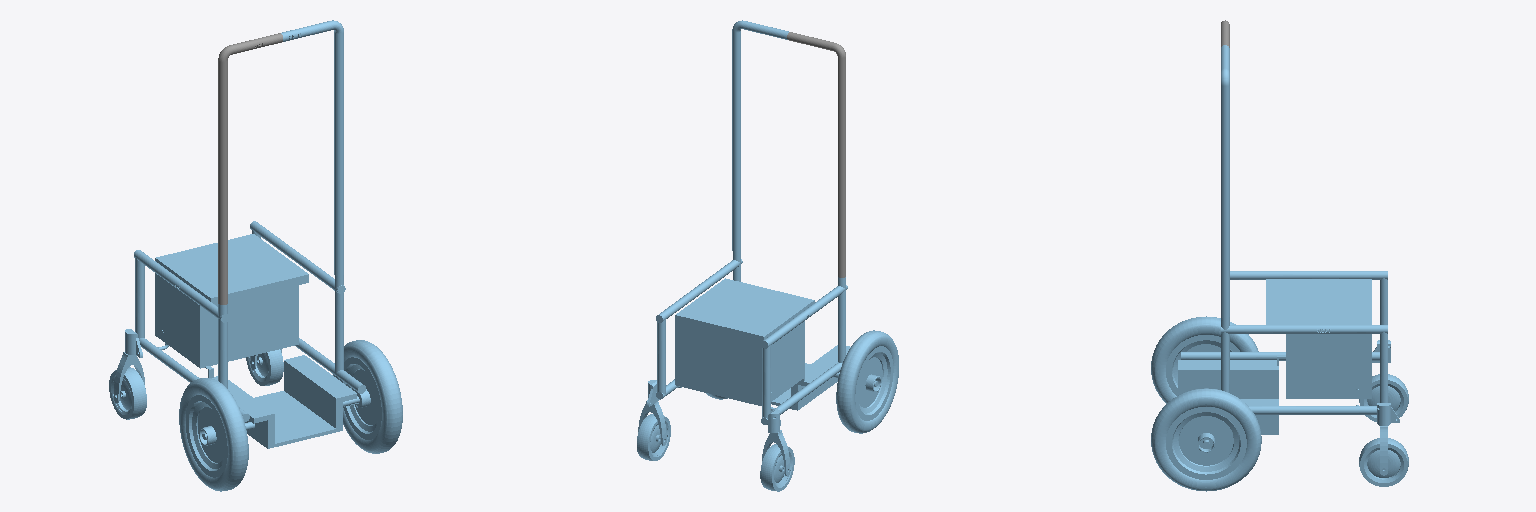
URDF robot description (robot):
<robot name="robot">
<!-- This URDF file was automatically generated by onshape-to-robot! Created by
Grégoire Passault (https://github.com/Gregwar) -->
    <link name="world"/>

    <joint name="world_parte-interior_joint" type="fixed">
        <parent link="world"/>
        <child link="parte_interior"/>
        <origin xyz="0.0 0.0 0.0" rpy="0.0 0.0 0.0"/>
    </joint>

    <link name="parte_interior">
        <visual>
            <origin xyz="-0.17157259699105301132 0.24287593199312426662 0.28583529680976227372" rpy="3.141592653589793116 -2.4651903288156597024e-31 3.141592653589793116" />
            <geometry>
                <mesh filename="package://theta_description/meshes/estrutura_esquerda.stl"/>
            </geometry>
            <material name="estrutura_esquerda_material">
                <color rgba="0.61568627450980395466 0.81176470588235294379 0.92941176470588238168 1.0"/>
            </material>
        </visual>
        <collision>
            <origin xyz="-0.17157259699105301132 0.24287593199312426662 0.28583529680976227372" rpy="3.141592653589793116 -2.4651903288156597024e-31 3.141592653589793116" />
            <geometry>
                <mesh filename="package://theta_description/meshes/estrutura_esquerda.stl"/>
            </geometry>
        </collision>
        <visual>
            <origin xyz="-0.15164718061608356559 -0.063263104190967395235 -0.067790648939520817273" rpy="0 -0 -2.3592239273284576484e-16" />
            <geometry>
                <mesh filename="package://theta_description/meshes/suporte_bateria.stl"/>
            </geometry>
            <material name="suporte_bateria_material">
                <color rgba="0.61568627450980395466 0.81176470588235294379 0.92941176470588238168 1.0"/>
            </material>
        </visual>
        <collision>
        <origin xyz="-0.15164718061608356559 -0.063263104190967395235 -0.067790648939520817273" rpy="0 -0 -2.3592239273284576484e-16" />
        <geometry>
        <mesh filename="package://theta_description/meshes/suporte_bateria.stl"/>
        </geometry>
        </collision>
        <visual>
        <origin xyz="-0.18777259699105303126 0.21037593199312421 0.00683529680976174836" rpy="2.4651903288156575129e-31 -1.35393051783555648e-16 1.570796326794896336" />
        <geometry>
        <mesh filename="package://theta_description/meshes/encaixeeixo.stl"/>
        </geometry>
        <material name="encaixeeixo_material">
        <color rgba="0.61568627450980395466 0.81176470588235294379 0.92941176470588238168 1.0"/>
        </material>
        </visual>
        <collision>
        <origin xyz="-0.18777259699105303126 0.21037593199312421 0.00683529680976174836" rpy="2.4651903288156575129e-31 -1.35393051783555648e-16 1.570796326794896336" />
        <geometry>
        <mesh filename="package://theta_description/meshes/encaixeeixo.stl"/>
        </geometry>
        </collision>
        <visual>
        <origin xyz="-0.17157259699105312234 -0.21462406800687613972 0.32583529680976230924" rpy="0 1.2246467991473549328e-16 6.8001160258290847962e-16" />
        <geometry>
        <mesh filename="package://theta_description/meshes/alça_esquerda.stl"/>
        </geometry>
        <material name="alça_esquerda_material">
        <color rgba="0.64705882352941179736 0.64705882352941179736 0.64705882352941179736 1.0"/>
        </material>
        </visual>
        <collision>
        <origin xyz="-0.17157259699105312234 -0.21462406800687613972 0.32583529680976230924" rpy="0 1.2246467991473549328e-16 6.8001160258290847962e-16" />
        <geometry>
        <mesh filename="package://theta_description/meshes/alça_esquerda.stl"/>
        </geometry>
        </collision>
        <visual>
        <origin xyz="0.21956962733279611344 0.24237593199312440495 -0.024687850027610480641" rpy="0 -0 0" />
        <geometry>
        <mesh filename="package://theta_description/meshes/eixorodamenor.stl"/>
        </geometry>
        <material name="eixorodamenor_material">
        <color rgba="0.61568627450980395466 0.81176470588235294379 0.92941176470588238168 1.0"/>
        </material>
        </visual>
        <collision>
        <origin xyz="0.21956962733279611344 0.24237593199312440495 -0.024687850027610480641" rpy="0 -0 0" />
        <geometry>
        <mesh filename="package://theta_description/meshes/eixorodamenor.stl"/>
        </geometry>
        </collision>
        <visual>
        <origin xyz="0.16085281938391673973 0.1965368958090327467 0.057486351060479119746" rpy="-1.2246467991473556724e-16 1.35393051783555648e-16 -1.57079632679489678" />
        <geometry>
        <mesh filename="package://theta_description/meshes/caixacentral.stl"/>
        </geometry>
        <material name="caixacentral_material">
        <color rgba="0.61568627450980395466 0.81176470588235294379 0.92941176470588238168 1.0"/>
        </material>
        </visual>
        <collision>
        <origin xyz="0.16085281938391673973 0.1965368958090327467 0.057486351060479119746" rpy="-1.2246467991473556724e-16 1.35393051783555648e-16 -1.57079632679489678" />
        <geometry>
        <mesh filename="package://theta_description/meshes/caixacentral.stl"/>
        </geometry>
        </collision>
        <visual>
        <origin xyz="0.18786962733279607973 0.24287593199312432213 0.28638089662856930362" rpy="3.141592653589793116 -0 -3.1415926535897926719" />
        <geometry>
        <mesh filename="package://theta_description/meshes/estrutura_direita.stl"/>
        </geometry>
        <material name="estrutura_direita_material">
        <color rgba="0.61568627450980395466 0.81176470588235294379 0.92941176470588238168 1.0"/>
        </material>
        </visual>
        <collision>
        <origin xyz="0.18786962733279607973 0.24287593199312432213 0.28638089662856930362" rpy="3.141592653589793116 -0 -3.1415926535897926719" />
        <geometry>
        <mesh filename="package://theta_description/meshes/estrutura_direita.stl"/>
        </geometry>
        </collision>
        <visual>
        <origin xyz="0.18786962733279638504 -0.21462406800687591768 0.32638089662856933915" rpy="0 6.1629758220391519929e-33 6.8001160258290847962e-16" />
        <geometry>
        <mesh filename="package://theta_description/meshes/alça_direita.stl"/>
        </geometry>
        <material name="alça_direita_material">
        <color rgba="0.61568627450980395466 0.81176470588235294379 0.92941176470588238168 1.0"/>
        </material>
        </visual>
        <collision>
        <origin xyz="0.18786962733279638504 -0.21462406800687591768 0.32638089662856933915" rpy="0 6.1629758220391519929e-33 6.8001160258290847962e-16" />
        <geometry>
        <mesh filename="package://theta_description/meshes/alça_direita.stl"/>
        </geometry>
        </collision>
        <visual>
        <origin xyz="-0.20846361847784078414 0.23037593199312422776 -0.11226164164693730463" rpy="-1.570796326794896558 1.570796326794896558 0" />
        <geometry>
        <mesh filename="package://theta_description/meshes/pneumenor.stl"/>
        </geometry>
        <material name="pneumenor_material">
        <color rgba="0.61568627450980395466 0.81176470588235294379 0.92941176470588238168 1.0"/>
        </material>
        </visual>
        <collision>
        <origin xyz="-0.20846361847784078414 0.23037593199312422776 -0.11226164164693730463" rpy="-1.570796326794896558 1.570796326794896558 0" />
        <geometry>
        <mesh filename="package://theta_description/meshes/pneumenor.stl"/>
        </geometry>
        </collision>
        <visual>
        <origin xyz="0.2143786058460082633 0.23037593199312433878 -0.11171604182813017758" rpy="-1.570796326794896558 1.570796326794896558 0" />
        <geometry>
        <mesh filename="package://theta_description/meshes/pneumenor.stl"/>
        </geometry>
        <material name="pneumenor_material">
        <color rgba="0.61568627450980395466 0.81176470588235294379 0.92941176470588238168 1.0"/>
        </material>
        </visual>
        <collision>
        <origin xyz="0.2143786058460082633 0.23037593199312433878 -0.11171604182813017758" rpy="-1.570796326794896558 1.570796326794896558 0" />
        <geometry>
        <mesh filename="package://theta_description/meshes/pneumenor.stl"/>
        </geometry>
        </collision>
        <visual>
        <origin xyz="0.20406962733279609967 0.25037593199312435654 0.0073808966285689309172" rpy="0 -0 -1.5707963267948958919" />
        <geometry>
        <mesh filename="package://theta_description/meshes/encaixeeixo.stl"/>
        </geometry>
        <material name="encaixeeixo_material">
        <color rgba="0.61568627450980395466 0.81176470588235294379 0.92941176470588238168 1.0"/>
        </material>
        </visual>
        <collision>
        <origin xyz="0.20406962733279609967 0.25037593199312435654 0.0073808966285689309172" rpy="0 -0 -1.5707963267948958919" />
        <geometry>
        <mesh filename="package://theta_description/meshes/encaixeeixo.stl"/>
        </geometry>
        </collision>
        <visual>
        <origin xyz="-0.203272596991052934 0.24237593199312429393 -0.025233449846417621565" rpy="0 -0 0" />
        <geometry>
        <mesh filename="package://theta_description/meshes/eixorodamenor.stl"/>
        </geometry>
        <material name="eixorodamenor_material">
        <color rgba="0.61568627450980395466 0.81176470588235294379 0.92941176470588238168 1.0"/>
        </material>
        </visual>
        <collision>
        <origin xyz="-0.203272596991052934 0.24237593199312429393 -0.025233449846417621565" rpy="0 -0 0" />
        <geometry>
        <mesh filename="package://theta_description/meshes/eixorodamenor.stl"/>
        </geometry>
        </collision>
        <inertial>
        <origin xyz="0.008170437061892257824 0.043928064197974167615 0.14489944243383257039" rpy="0 0 0"/>
        <mass value="171.94554958043747206" />
        <inertia ixx="4.3846896981672349725" ixy="0.00364880132254727374"  ixz="-0.0072407607976240715569" iyy="3.6360052698491176493" iyz="-0.53322694252760016731" izz="4.5692743191950366821" />
        </inertial>
    </link>

    <link name="rodas_maiores">
    <visual>
    <origin xyz="0 0 0" rpy="1.570796326794896558 3.1242248823380094523e-75 0" />
    <geometry>
    <mesh filename="package://theta_description/meshes/eixorodamaior.stl"/>
    </geometry>
    <material name="eixorodamaior_material">
    <color rgba="0.61568627450980395466 0.81176470588235294379 0.92941176470588238168 1.0"/>
    </material>
    </visual>
    <collision>
    <origin xyz="0 0 0" rpy="1.570796326794896558 3.1242248823380094523e-75 0" />
    <geometry>
    <mesh filename="package://theta_description/meshes/eixorodamaior.stl"/>
    </geometry>
    </collision>
    <visual>
    <origin xyz="0 0 -0.059100000000000069145" rpy="-1.570796326794896558 2.4492935982946985257e-16 -3.141592653589793116" />
    <geometry>
    <mesh filename="package://theta_description/meshes/rodamaior.stl"/>
    </geometry>
    <material name="rodamaior_material">
    <color rgba="0.61568627450980395466 0.81176470588235294379 0.92941176470588238168 1.0"/>
    </material>
    </visual>
    <collision>
    <origin xyz="0 0 -0.059100000000000069145" rpy="-1.570796326794896558 2.4492935982946985257e-16 -3.141592653589793116" />
    <geometry>
    <mesh filename="package://theta_description/meshes/rodamaior.stl"/>
    </geometry>
    </collision>
    <inertial>
    <origin xyz="1.2653899499277690085e-07 3.213148670797778341e-06 -0.058590622625737491525" rpy="0 0 0"/>
    <mass value="11.932094458693160988" />
    <inertia ixx="0.080324749708183040831" ixy="-2.0803509752194626826e-11"  ixz="-2.1421984032297167469e-07" iyy="0.080321467239751184741" iyz="-1.8319399352921136127e-06" izz="0.15479264107262497019" />
    </inertial>
    </link>

    <joint name="rodaDirMaior" type="continuous">
    <origin xyz="0.18760281938391643042 -0.26726310419096743765 -0.027790648939520816441" rpy="-1.570796326794896558 -5.1463765465983115601e-30 1.570796326794896336" />
    <parent link="parte_interior" />
    <child link="rodas_maiores" />
    <axis xyz="0 0 1"/>
    <limit effort="1" velocity="20" />
    <joint_properties friction="0.0"/>
    </joint>

    <link name="rodas_maiores_2">
    <visual>
    <origin xyz="0 0 0" rpy="1.570796326794896558 -0 0" />
    <geometry>
    <mesh filename="package://theta_description/meshes/eixorodamaior.stl"/>
    </geometry>
    <material name="eixorodamaior_material">
    <color rgba="0.61568627450980395466 0.81176470588235294379 0.92941176470588238168 1.0"/>
    </material>
    </visual>
    <collision>
    <origin xyz="0 0 0" rpy="1.570796326794896558 -0 0" />
    <geometry>
    <mesh filename="package://theta_description/meshes/eixorodamaior.stl"/>
    </geometry>
    </collision>
    <visual>
    <origin xyz="0 0 -0.059100000000000069145" rpy="-1.570796326794896558 -0 3.141592653589793116" />
    <geometry>
    <mesh filename="package://theta_description/meshes/rodamaior.stl"/>
    </geometry>
    <material name="rodamaior_material">
    <color rgba="0.61568627450980395466 0.81176470588235294379 0.92941176470588238168 1.0"/>
    </material>
    </visual>
    <collision>
    <origin xyz="0 0 -0.059100000000000069145" rpy="-1.570796326794896558 -0 3.141592653589793116" />
    <geometry>
    <mesh filename="package://theta_description/meshes/rodamaior.stl"/>
    </geometry>
    </collision>
    <inertial>
    <origin xyz="1.2653899499284487524e-07 3.213148670797778341e-06 -0.058590622625737491525" rpy="0 0 0"/>
    <mass value="11.932094458693160988" />
    <inertia ixx="0.080324749708183040831" ixy="-2.0803509752071838972e-11"  ixz="-2.1421984030469259781e-07" iyy="0.080321467239751184741" iyz="-1.8319399352921136127e-06" izz="0.15479264107262497019" />
    </inertial>
    </link>

    <joint name="rodaEsqMaior" type="continuous">
    <origin xyz="-0.17089718061608361044 -0.26726310419096732662 -0.027790648939520816441" rpy="-1.570796326794896558 -0 -1.57079632679489678" />
    <parent link="parte_interior" />
    <child link="rodas_maiores_2" />
    <axis xyz="0 0 1"/>
    <limit effort="1" velocity="20" />
    <joint_properties friction="0.0"/>
    </joint>


</robot>

--- What the picture shows (computed from the rendered views, not written in the file) ---
3 views of the same robot in one strip: view 1: azimuth 30°, elevation 25°; view 2: azimuth 150°, elevation 25°; view 3: azimuth 270°, elevation 25° (orthographic).
Model robot with 4 links and 3 joints (2 continuous, 1 fixed), rooted at world, posed all joints at 0.
Links seen in each view (by area): view 1: parte_interior, rodas_maiores_2, rodas_maiores; view 2: parte_interior, rodas_maiores_2; view 3: parte_interior, rodas_maiores, rodas_maiores_2.
Boxes of the visible links, x1,y1,x2,y2 form: parte_interior: [109, 20, 365, 448]; rodas_maiores_2: [179, 378, 248, 491]; rodas_maiores: [333, 340, 402, 453]; parte_interior: [637, 20, 850, 491]; rodas_maiores_2: [836, 330, 898, 433]; parte_interior: [1178, 20, 1408, 486]; rodas_maiores: [1151, 388, 1261, 491]; rodas_maiores_2: [1151, 316, 1258, 403].
Bounding box of the posed robot: 0.5417 × 0.7225 × 1.26 m (x, y, z).
Meshes: 11 distinct files referenced, 16 mesh visuals loaded (11 binary STL).
